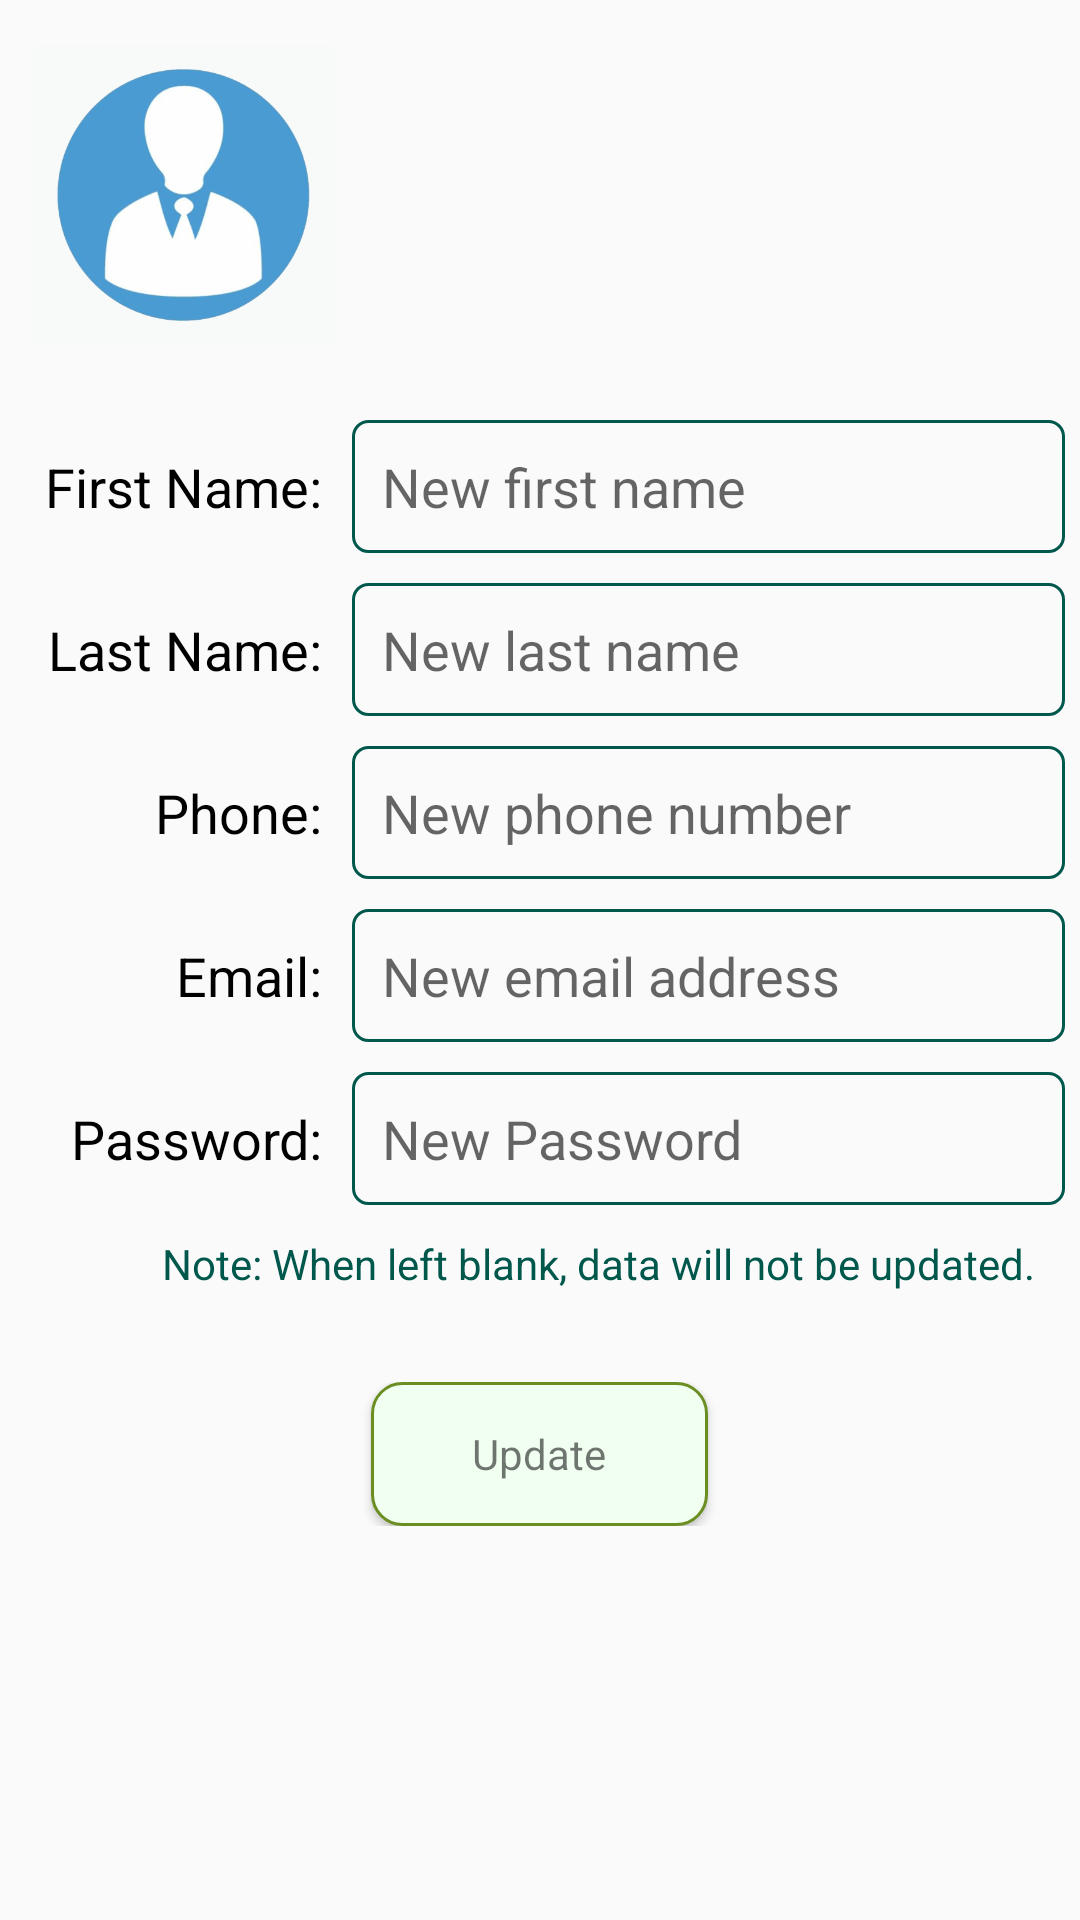

Named icons in this screenshot (1080px×1920px) and their bounding boxes, box=[x1, y1, x2, y2]:
My Account: box=[57, 69, 310, 321]
